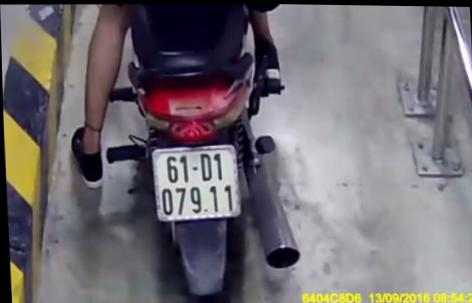LP: (149, 141, 242, 222)
